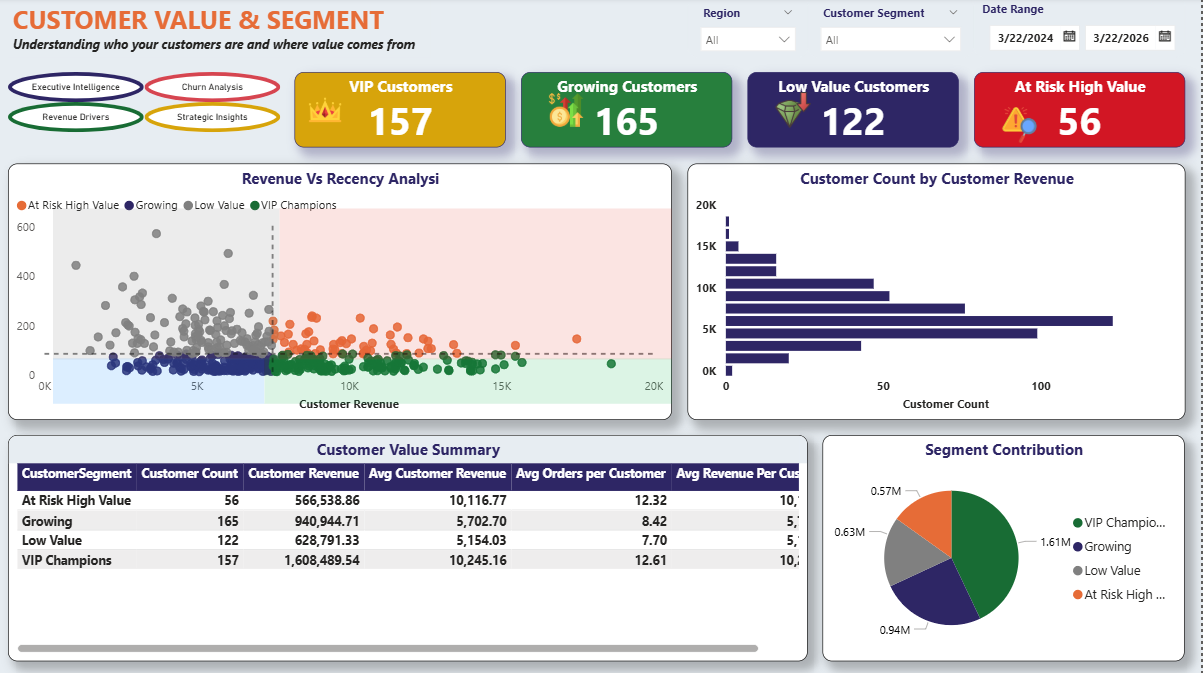

The page's visual inventory and layout, read from the dashboard file:
{"tool":"powerbi","page":{"name":"Customer Analysis","canvas":[1280,720],"ordinal":1},"visuals":[{"type":"scatterChart","title":"Revenue Vs Recency Analysi ","fields":{"Series":["Customer Summary.CustomerSegment"],"Y":["Sum(Customer Summary.Customer Recency)"],"X":["Sum(Customer Summary.Customer Revenue)"],"Category":["Customer Summary.customer_id"]},"box":[16,176,704,272],"z":0},{"type":"shape","box":[304,224,416,160],"z":1000},{"type":"shape","box":[64,224,240,160],"z":2000},{"type":"shape","box":[64,384,224,48],"z":3000},{"type":"shape","box":[288,384,432,48],"z":4000},{"type":"textbox","box":[16,0,448,64],"z":5000},{"type":"barChart","title":"Customer Count by Customer Revenue ","fields":{"Y":["Customer Summary.Customer Count"],"Category":["Customer Summary.Customer Revenue (bins)"]},"box":[736,176,528,272],"z":6000},{"type":"tableEx","title":"Customer Value Summary","fields":{"Values":["Customer Summary.CustomerSegment","Customer Summary.Customer Count","Sum(Customer Summary.Customer Revenue)","customers (1).Avg Customer Revenue","orders.average oders","customers.Avg Revenue Per Customer"]},"box":[16,464,848,240],"z":7000},{"type":"card","title":"Low Value Customers","fields":{"Values":["Customer Summary.Low Value Customers"]},"box":[800,80,224,80],"z":8000},{"type":"card","title":"At Risk High Value","fields":{"Values":["Customer Summary.At Risk Customers"]},"box":[1040,80,224,80],"z":9000},{"type":"card","title":"Growing Customers","fields":{"Values":["Customer Summary.Growing Customers"]},"box":[560,80,224,80],"z":10000},{"type":"slicer","fields":{"Values":["orders.region"]},"box":[736,0,128,64],"z":11000},{"type":"slicer","fields":{"Values":["customers (1).segment"]},"box":[864,0,176,64],"z":12000},{"type":"slicer","title":"Date Range","fields":{"Values":["orders.order_date"]},"box":[1040,0,224,64],"z":13000},{"type":"pieChart","title":"Segment Contribution","fields":{"Y":["Customer Summary.Total CLV"],"Category":["Customer Summary.CustomerSegment"]},"box":[880,464,384,240],"z":14000},{"type":"card","title":"VIP Customers","fields":{"Values":["Customer Summary.VIP Customers"]},"box":[320,80,224,80],"z":15000},{"type":"actionButton","box":[16,80,144,32],"z":16000},{"type":"actionButton","box":[160,80,144,32],"z":17000},{"type":"actionButton","box":[16,112,144,32],"z":18000},{"type":"actionButton","box":[160,112,144,32],"z":19000},{"type":"image","box":[304,96,96,48],"z":20000},{"type":"image","box":[576,96,64,48],"z":21000},{"type":"image","box":[816,96,64,48],"z":22000},{"type":"image","box":[1056,112,64,48],"z":23000}]}

Visuals, with their boxes in screenshot pixels (x1, y1, x2, y2), scaled from the page's 1280x720 canvas onto the 1203x673 screenshot:
"Revenue Vs Recency Analysi " scatterChart: locate(15, 165, 677, 419)
shape: locate(286, 209, 677, 359)
shape: locate(60, 209, 286, 359)
shape: locate(60, 359, 271, 404)
shape: locate(271, 359, 677, 404)
textbox: locate(15, 0, 436, 60)
"Customer Count by Customer Revenue " barChart: locate(692, 165, 1188, 419)
"Customer Value Summary" tableEx: locate(15, 434, 812, 658)
"Low Value Customers" card: locate(752, 75, 962, 150)
"At Risk High Value" card: locate(977, 75, 1188, 150)
"Growing Customers" card: locate(526, 75, 737, 150)
slicer - orders.region: locate(692, 0, 812, 60)
slicer - customers (1).segment: locate(812, 0, 977, 60)
"Date Range" slicer: locate(977, 0, 1188, 60)
"Segment Contribution" pieChart: locate(827, 434, 1188, 658)
"VIP Customers" card: locate(301, 75, 511, 150)
actionButton: locate(15, 75, 150, 105)
actionButton: locate(150, 75, 286, 105)
actionButton: locate(15, 105, 150, 135)
actionButton: locate(150, 105, 286, 135)
image: locate(286, 90, 376, 135)
image: locate(541, 90, 602, 135)
image: locate(767, 90, 827, 135)
image: locate(992, 105, 1053, 150)
